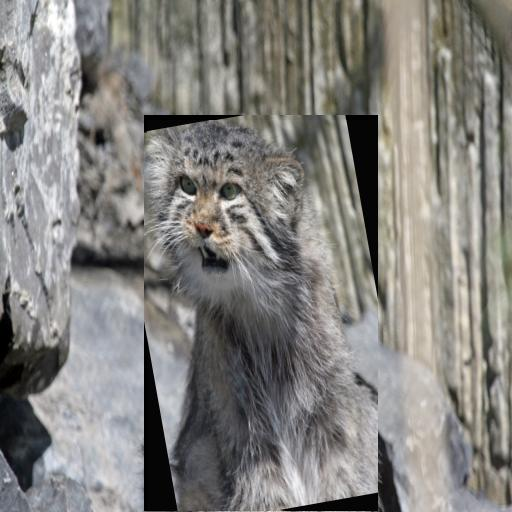manul: (148, 121, 378, 510)
